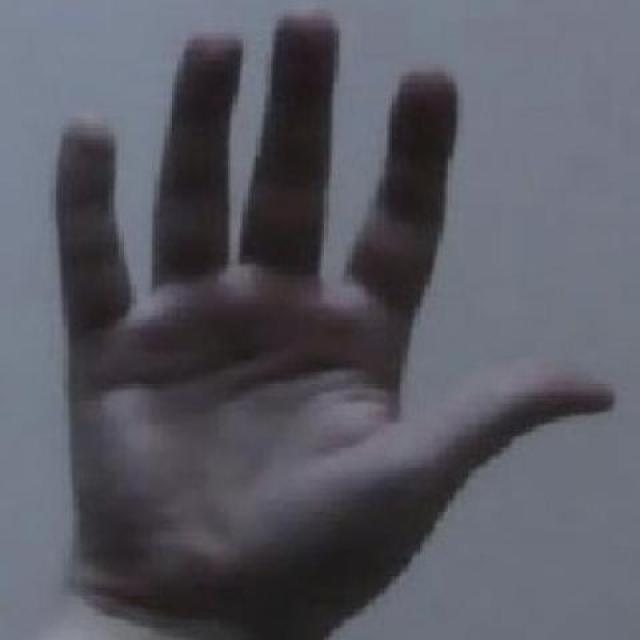Open Hand: (50, 9, 618, 640)
